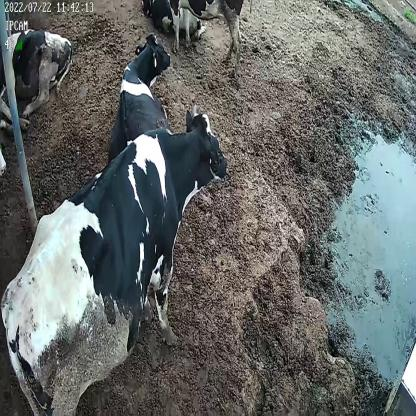cow: (0, 106, 229, 416), (107, 30, 175, 170)
